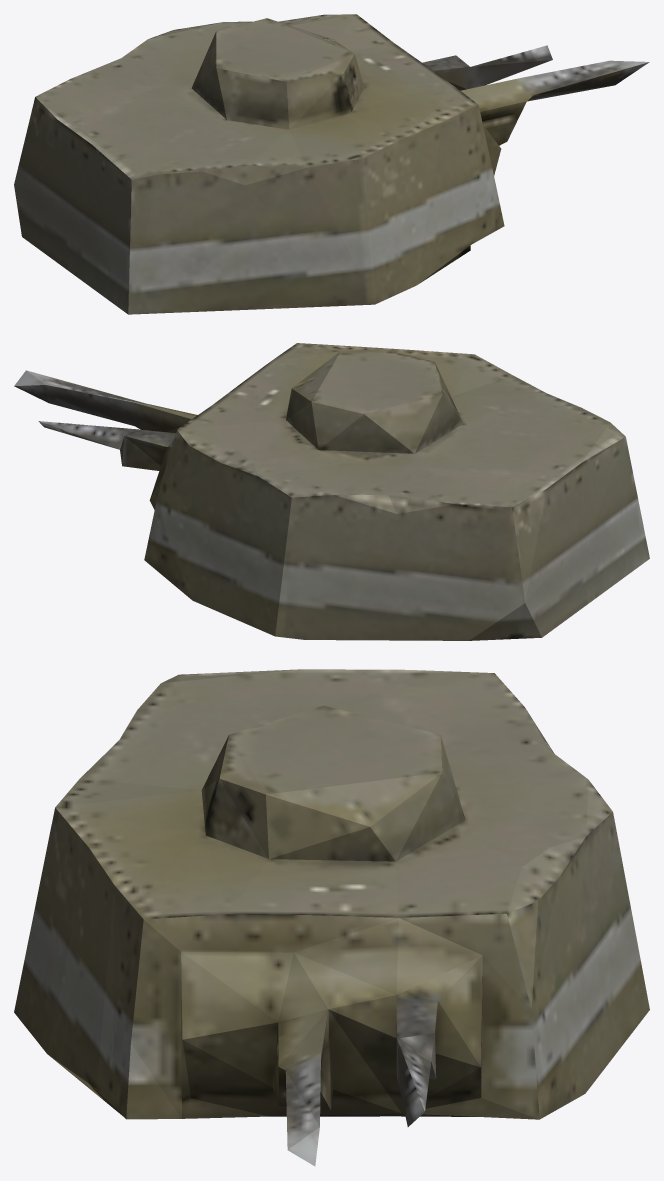
The model's file is turret.obj.
3 views of the same model, one above another, from view 1: azimuth 30°, elevation 25°; view 2: azimuth 150°, elevation 25°; view 3: azimuth 270°, elevation 25° (orthographic). The views are drawn at different scales.
Size of the model in its own units: 0.5144 by 0.155 by 0.3279.
1 material, 1 textured.
